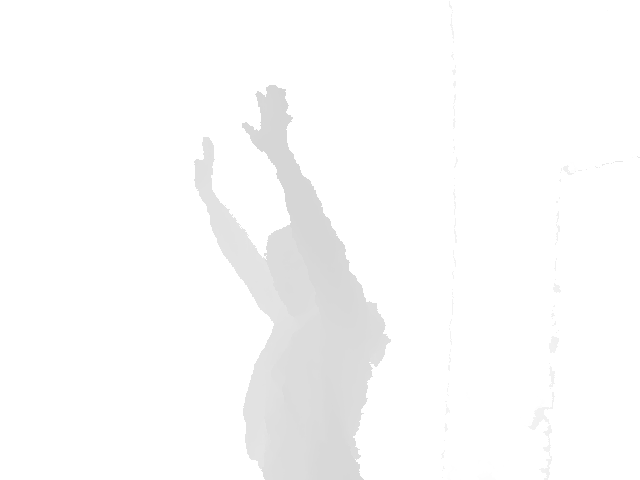hand: (241, 83, 295, 155), (192, 135, 216, 192)
head: (268, 221, 334, 316)
person: (192, 84, 393, 480)
